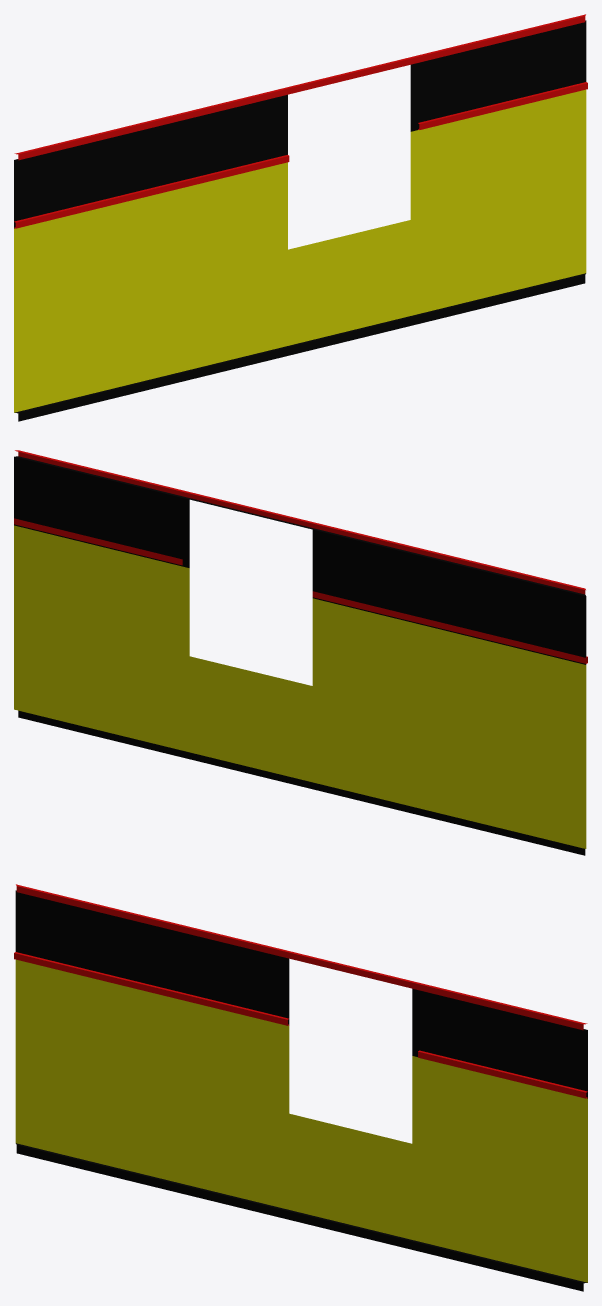
File: Wall_center.fbx
3 renders of one model, top to bottom at view 1: azimuth 30°, elevation 25°; view 2: azimuth 150°, elevation 25°; view 3: azimuth 330°, elevation 25°, orthographic.
Parts seen in each view (by area): view 1: polySurface13; view 2: polySurface13; view 3: polySurface13.
Boxes of the visible parts, box(x1,y1,x2,y2) form: polySurface13: box(14, 14, 587, 421); polySurface13: box(14, 450, 587, 855); polySurface13: box(14, 884, 587, 1291).
Bounding box in the file's own units: 21 × 9.37 × 0.1.
